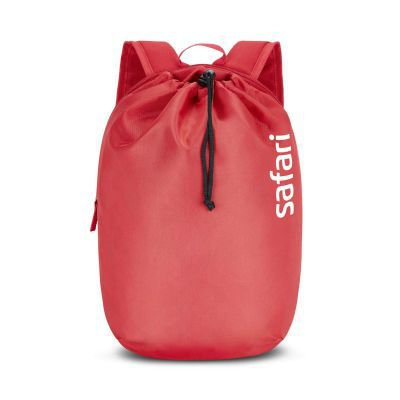backpack: (89, 39, 303, 360)
